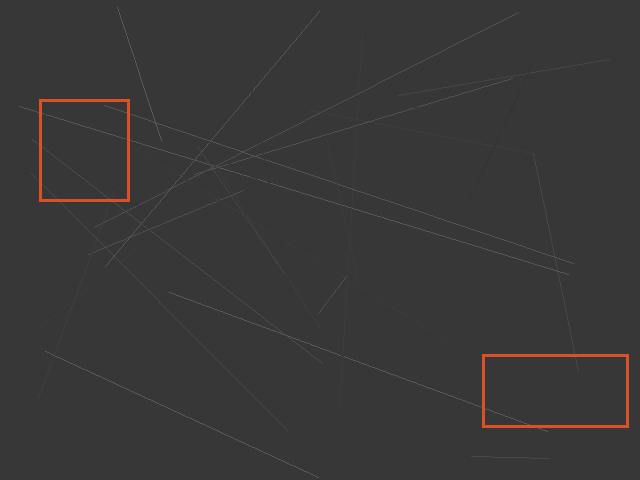D20: (482, 354, 628, 427), (39, 99, 129, 201)
